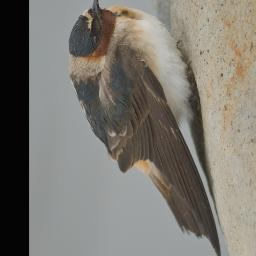Swallow: (62, 0, 230, 256)
